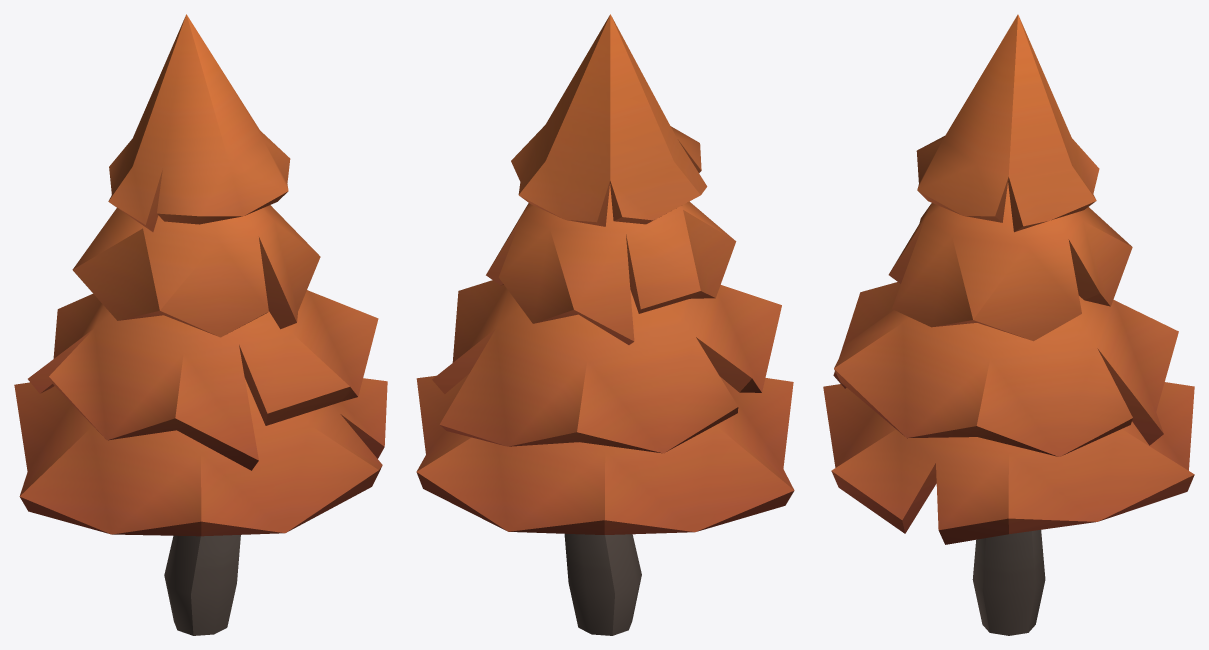
Rendered from pine-autumn.glb.
The picture shows the model from 3 angles, left to right: view 1: azimuth 30°, elevation 25°; view 2: azimuth 150°, elevation 25°; view 3: azimuth 270°, elevation 25°; orthographic projection.
Parts seen in each view (by area): view 1: tree_pine_orange_large; view 2: tree_pine_orange_large; view 3: tree_pine_orange_large.
Boxes of the visible parts, x1,y1,x2,y2 form: tree_pine_orange_large: (14,14,387,635); tree_pine_orange_large: (416,14,794,635); tree_pine_orange_large: (823,14,1194,635).
Bounding box in the file's own units: 4.76 × 7.48 × 4.15.
Materials: 1 (1 with a texture image).
